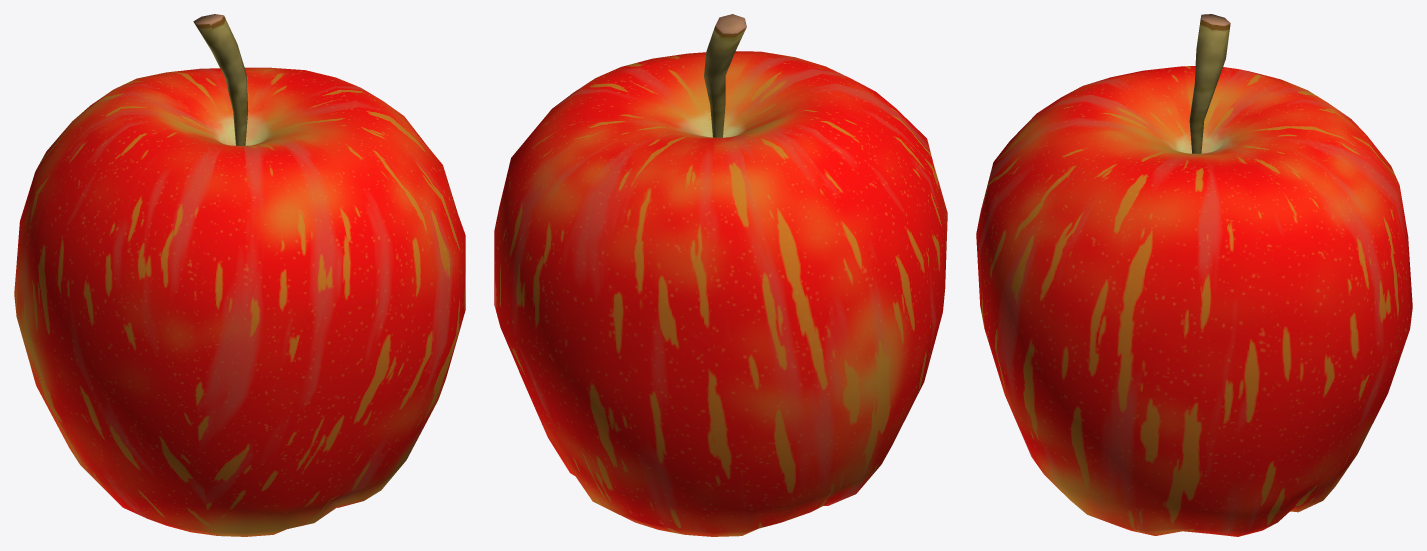
File: apple.glb
3 views of the same model, side by side, from view 1: azimuth 30°, elevation 25°; view 2: azimuth 150°, elevation 25°; view 3: azimuth 270°, elevation 25° (orthographic). The views are drawn at different scales.
Visible parts, largest first — view 1: Apple_Apple_0; view 2: Apple_Apple_0; view 3: Apple_Apple_0.
Boxes of the visible parts, box(x1,y1,x2,y2) form: Apple_Apple_0: box(14, 14, 465, 536); Apple_Apple_0: box(494, 14, 947, 536); Apple_Apple_0: box(976, 14, 1412, 536).
Size of the model in its own units: 6.62 by 7.99 by 6.73.
Materials: 1 (1 with a texture image).
